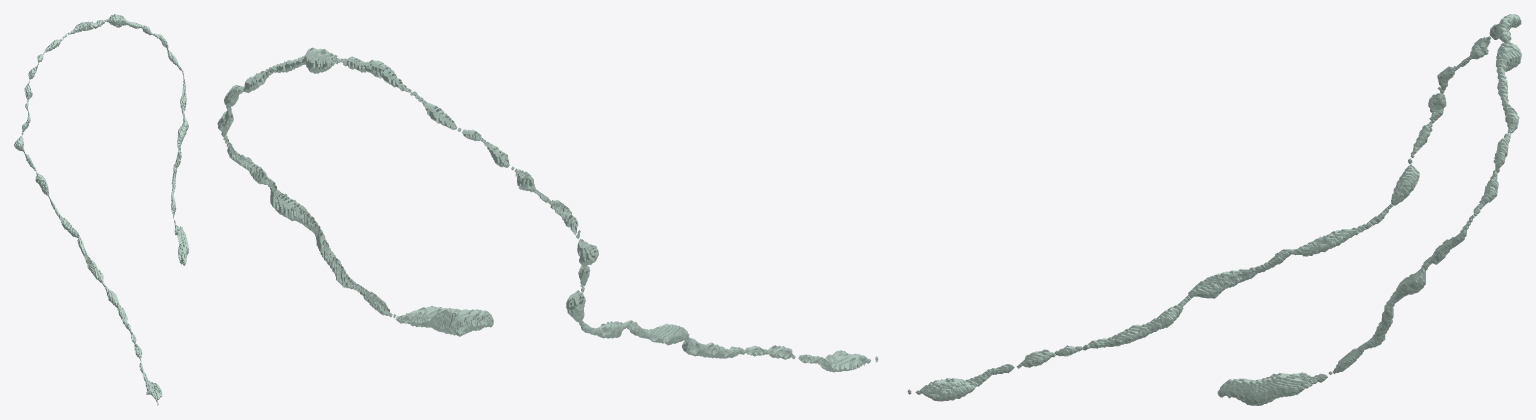
File: SVV_AVFL.gltf
3 renders of one model, left to right at view 1: azimuth 30°, elevation 25°; view 2: azimuth 150°, elevation 25°; view 3: azimuth 270°, elevation 25°, orthographic. The views are drawn at different scales.
Parts seen in each view (by area): view 1: AVFL; view 2: AVFL; view 3: AVFL.
Boxes of the visible parts, x1=… form: AVFL: x1=14, y1=14, x2=188, y2=405; AVFL: x1=217, y1=47, x2=878, y2=372; AVFL: x1=907, y1=14, x2=1521, y2=405.
Bounding box in the file's own units: 118089 × 154333 × 187823.
